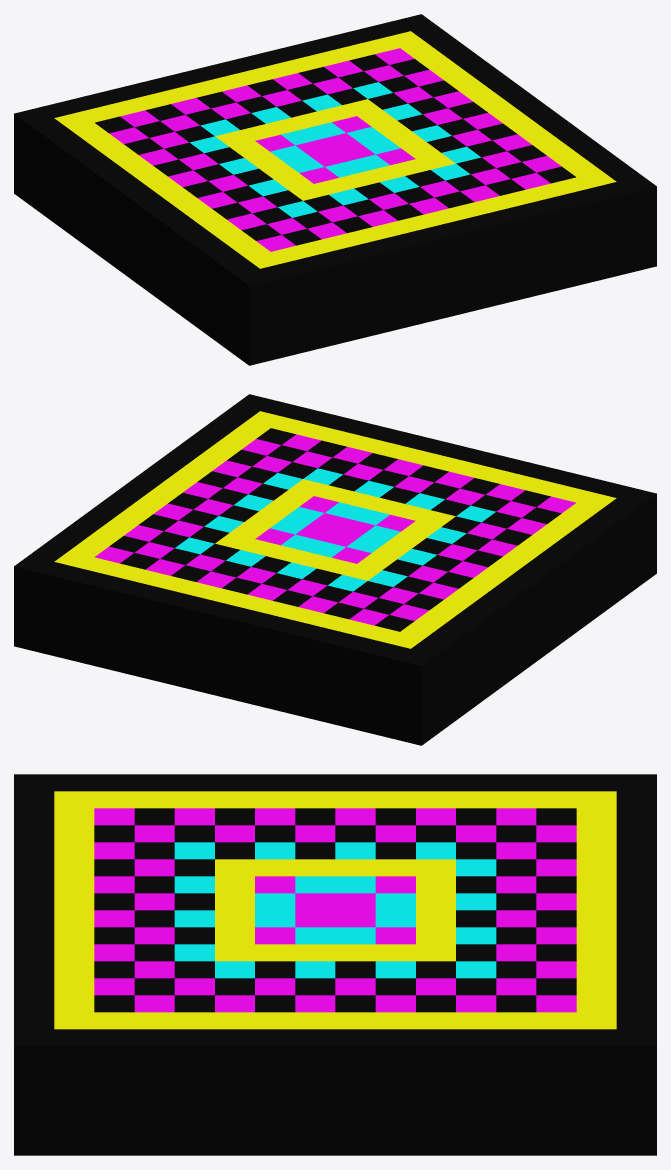
3 renders of one model, top to bottom at view 1: azimuth 30°, elevation 25°; view 2: azimuth 150°, elevation 25°; view 3: azimuth 270°, elevation 25°, orthographic. The views are drawn at different scales.
Parts seen in each view (by area): view 1: back5; view 2: back5; view 3: back5.
Part boxes in pixels (left/top/right/bottom): back5: left=14, top=14, right=656, bottom=365; back5: left=14, top=394, right=656, bottom=745; back5: left=14, top=774, right=656, bottom=1155.
Size of the model in its own units: 16 by 3 by 16.
1 material, 1 textured.
